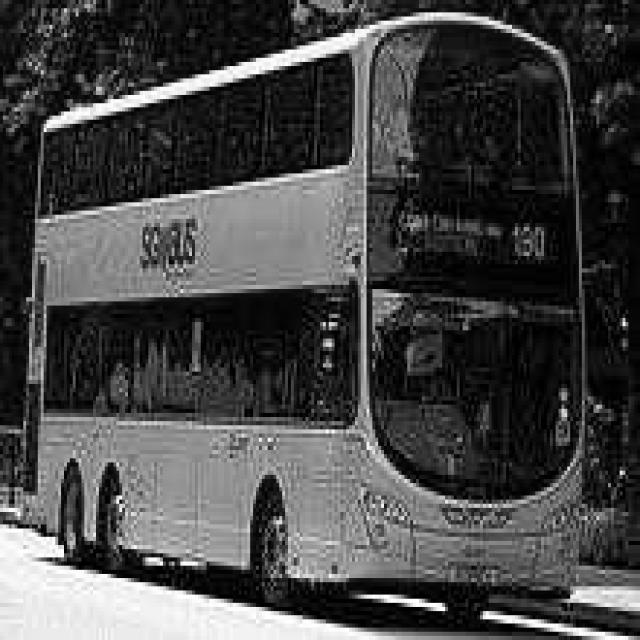Bus: (26, 14, 584, 586)
